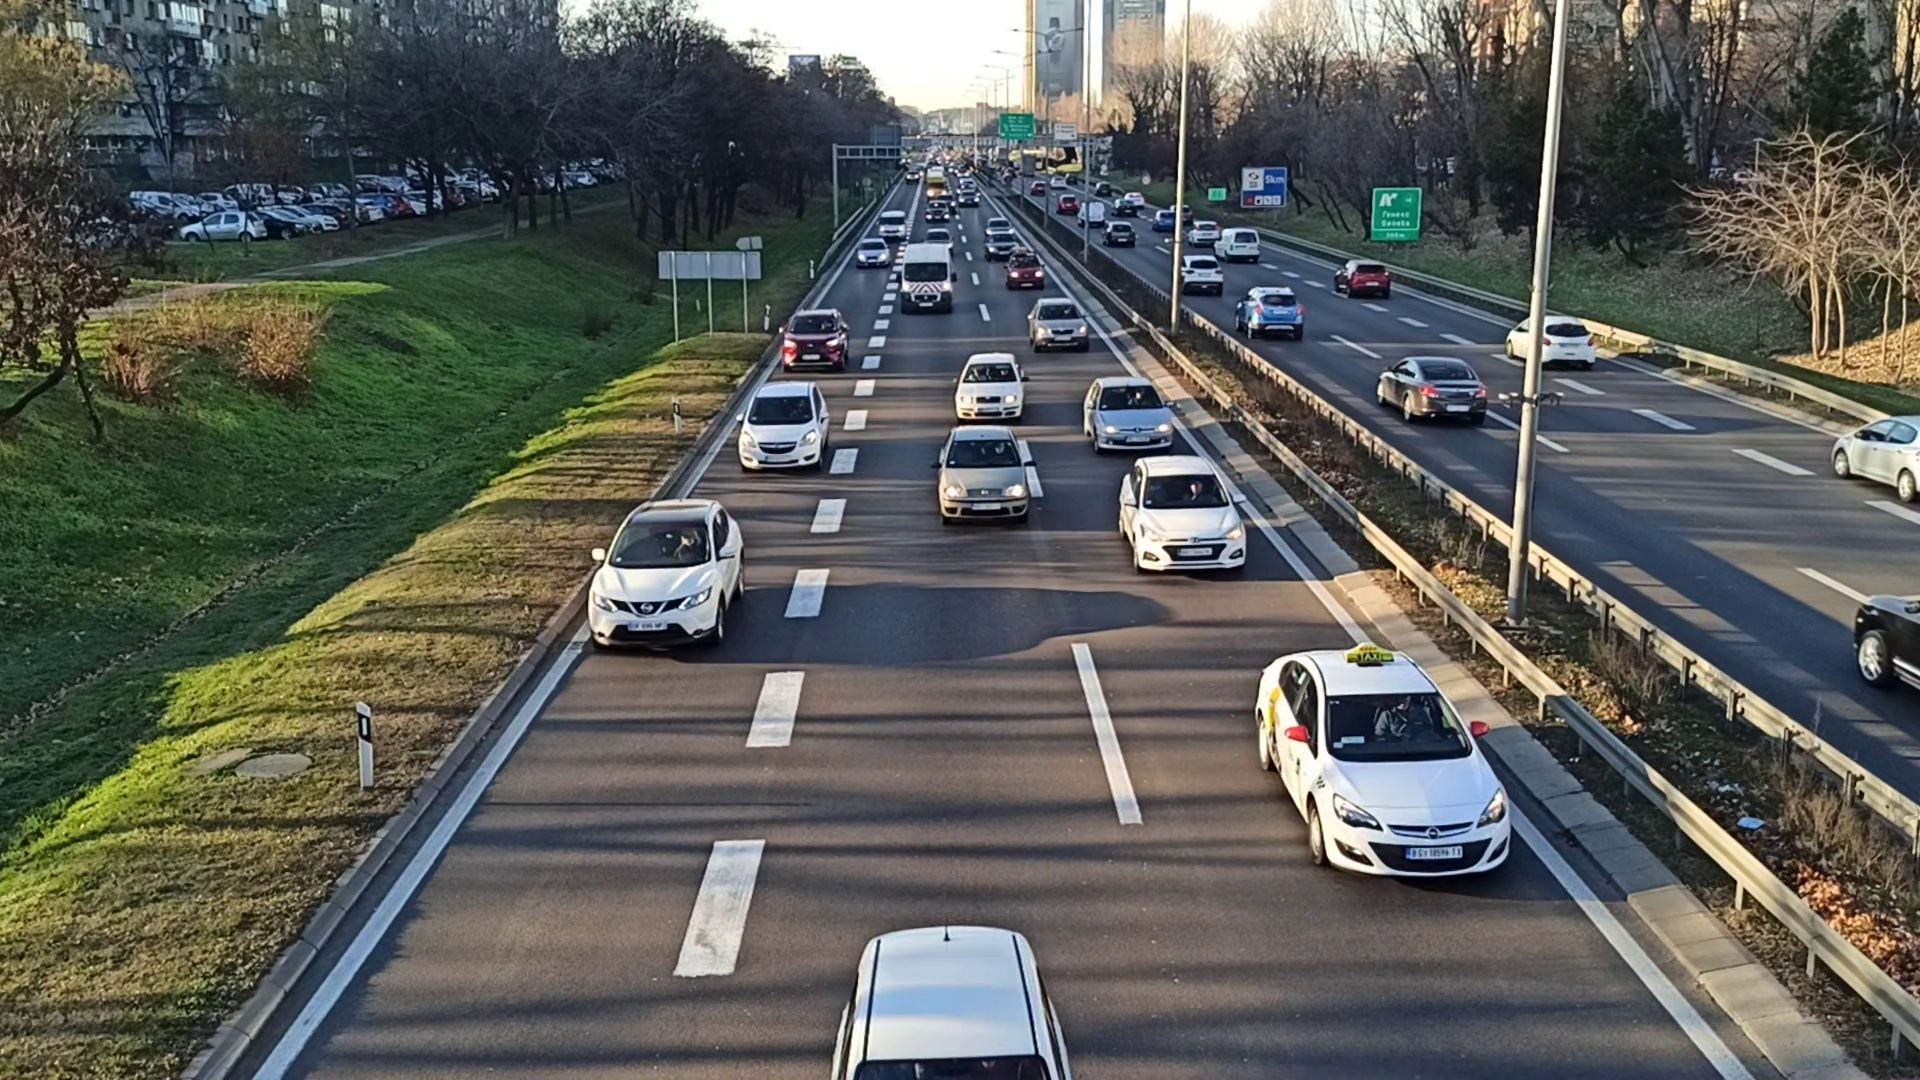car: (1255, 647, 1513, 886), (583, 498, 742, 647), (1117, 454, 1247, 574), (938, 425, 1029, 525), (740, 382, 829, 468), (1378, 353, 1485, 425), (1081, 375, 1174, 454), (953, 351, 1025, 419), (1236, 284, 1304, 342), (781, 309, 847, 367), (1027, 297, 1087, 347), (1335, 258, 1390, 298), (1178, 255, 1222, 290), (1006, 251, 1044, 289), (855, 239, 885, 265)
van: (902, 244, 953, 314)
